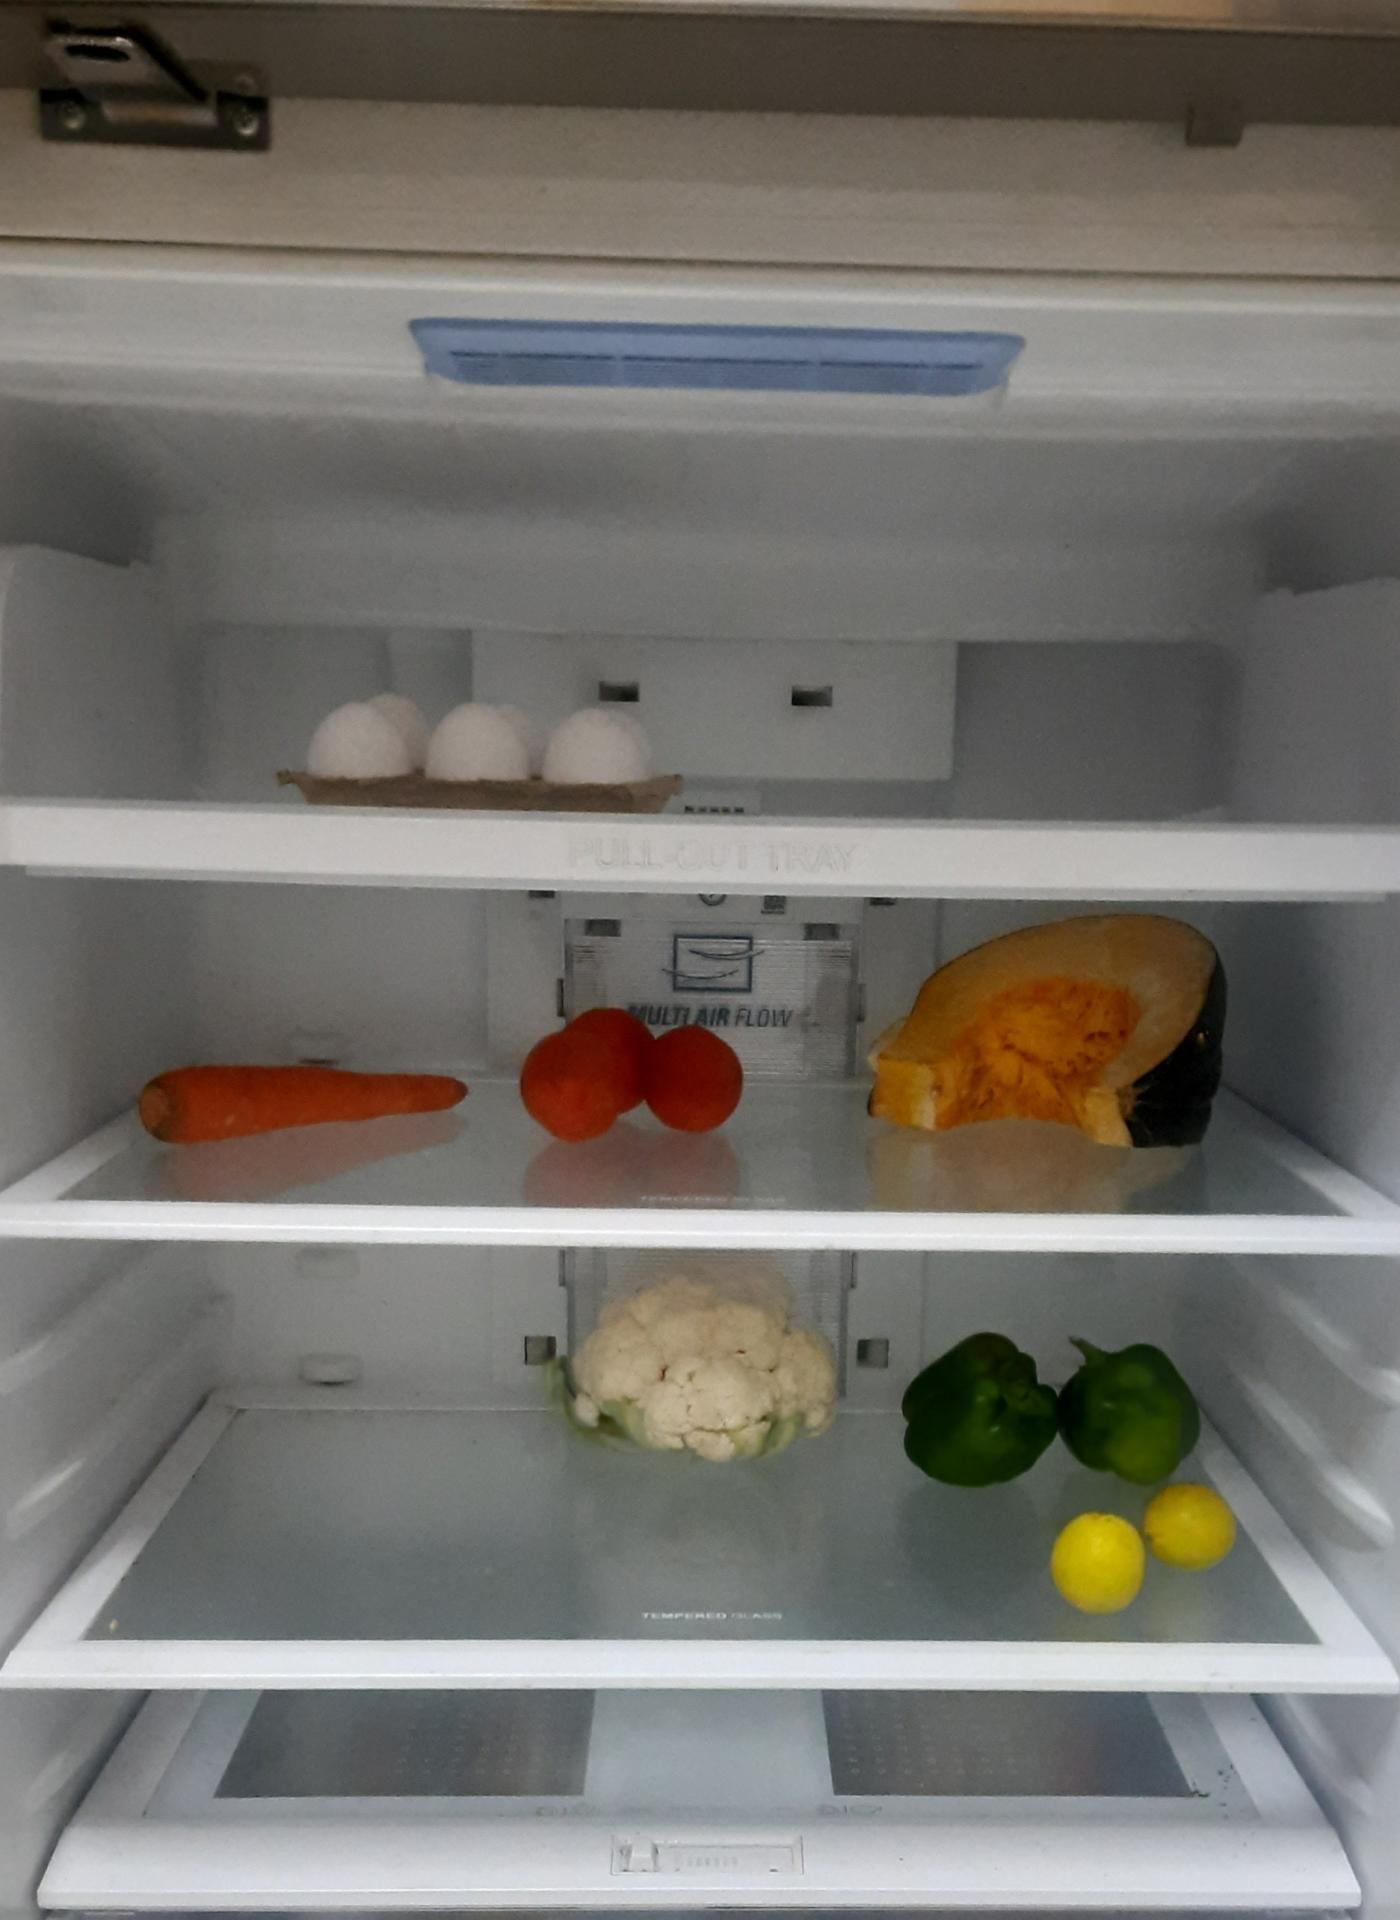capsicum: (905, 1337, 1214, 1491), (1066, 1348, 1208, 1492)
carrots: (137, 1048, 468, 1145)
cauliflower: (552, 1263, 842, 1465)
egg: (309, 678, 655, 795)
lemon: (1047, 1507, 1147, 1617), (1141, 1483, 1237, 1574)
pumpkin: (860, 909, 1233, 1154)
tomato: (514, 1009, 742, 1143)
